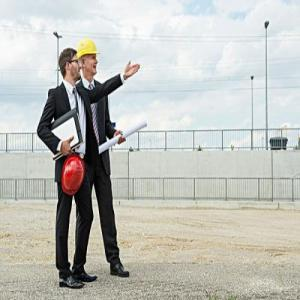none: (60, 49, 82, 84)
yellow: (78, 39, 101, 81)
